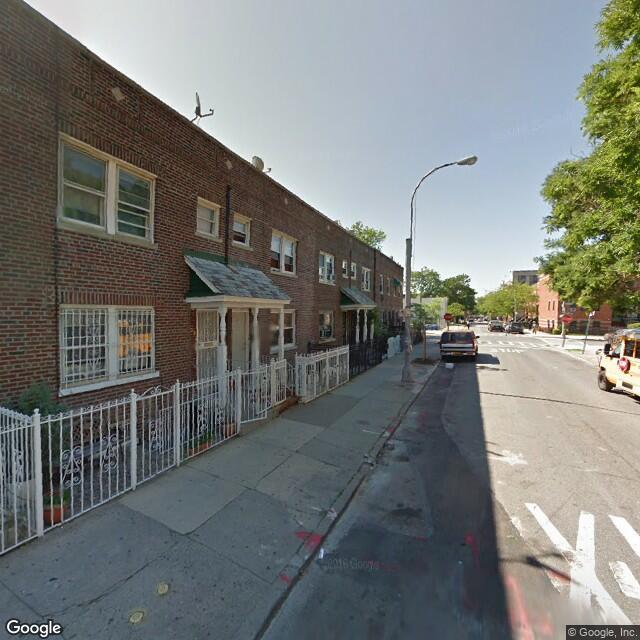litter: (444, 360, 456, 371)
